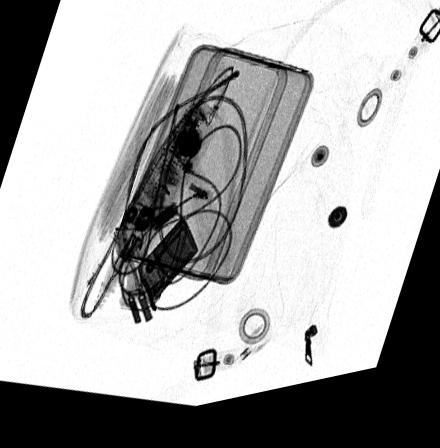Lighter: (134, 224, 198, 308)
